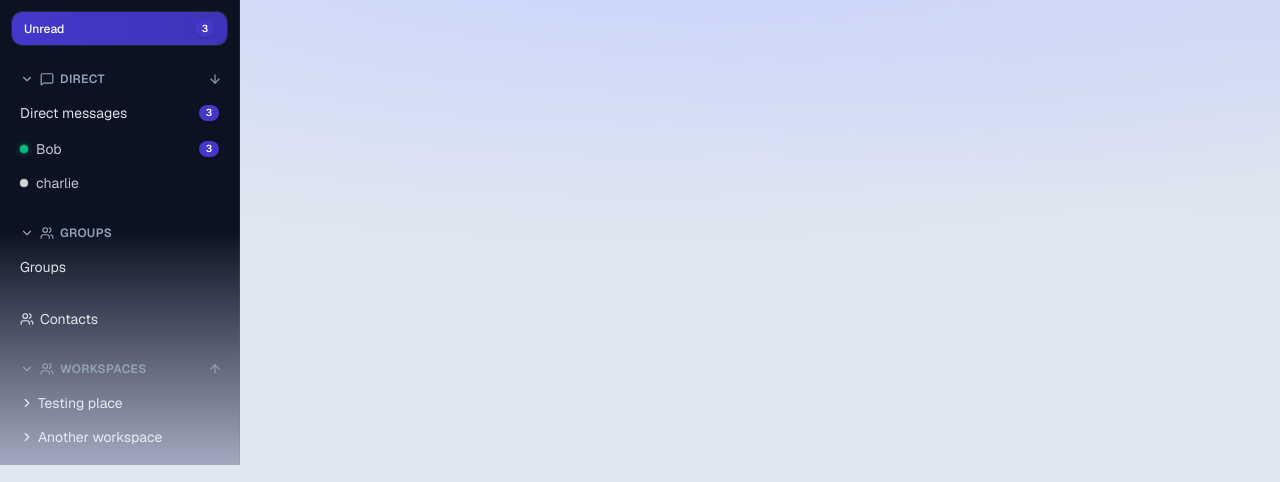
Test: Sidebar — Workspaces section › collapses Workspaces section
The image size is (1280, 482).
Expected: the text "Testing place" is shown, [38,394,123,412]
Click the button "Workspaces": (106, 369) [12,355,199,383]
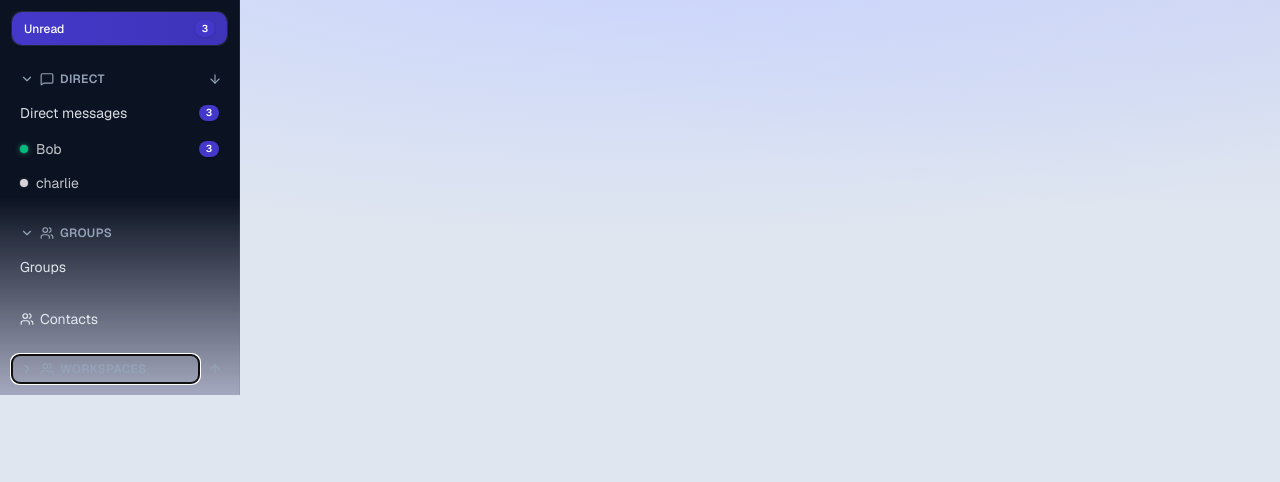
Result: the button "Testing place" is gone
